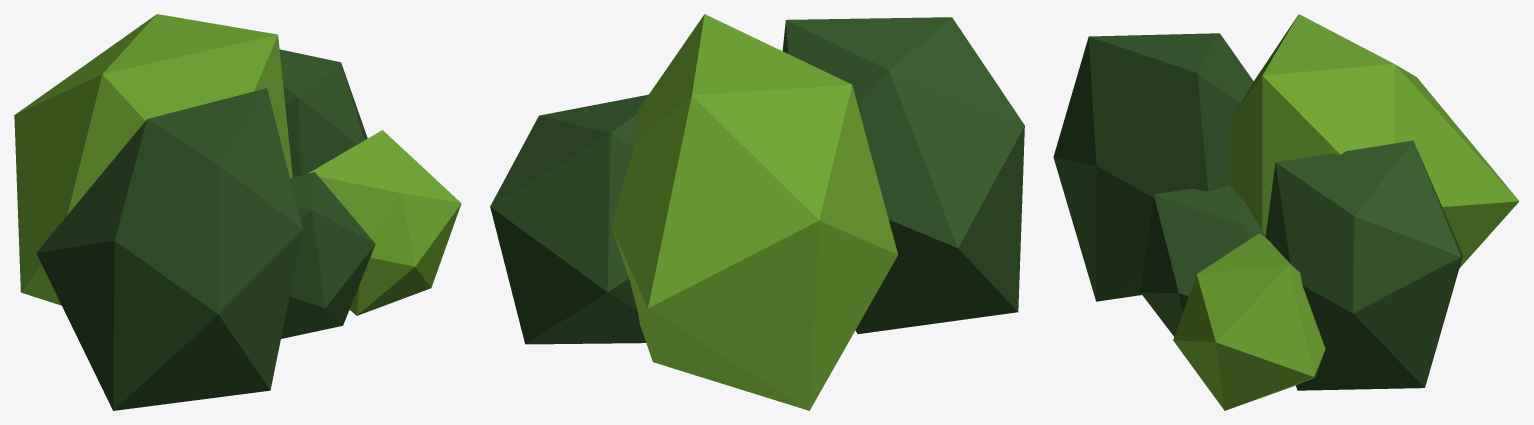
File: Bush7.fbx
3 views of the same model, side by side, from view 1: azimuth 30°, elevation 25°; view 2: azimuth 150°, elevation 25°; view 3: azimuth 270°, elevation 25° (orthographic). The views are drawn at different scales.
Parts seen in each view (by area): view 1: Cube.000; view 2: Cube.000; view 3: Cube.000.
Boxes of the visible parts, <box> form: Cube.000: <box>14,14,461,410</box>; Cube.000: <box>490,14,1024,410</box>; Cube.000: <box>1053,14,1519,410</box>.
Size of the model in its own units: 136 by 88.41 by 138.
